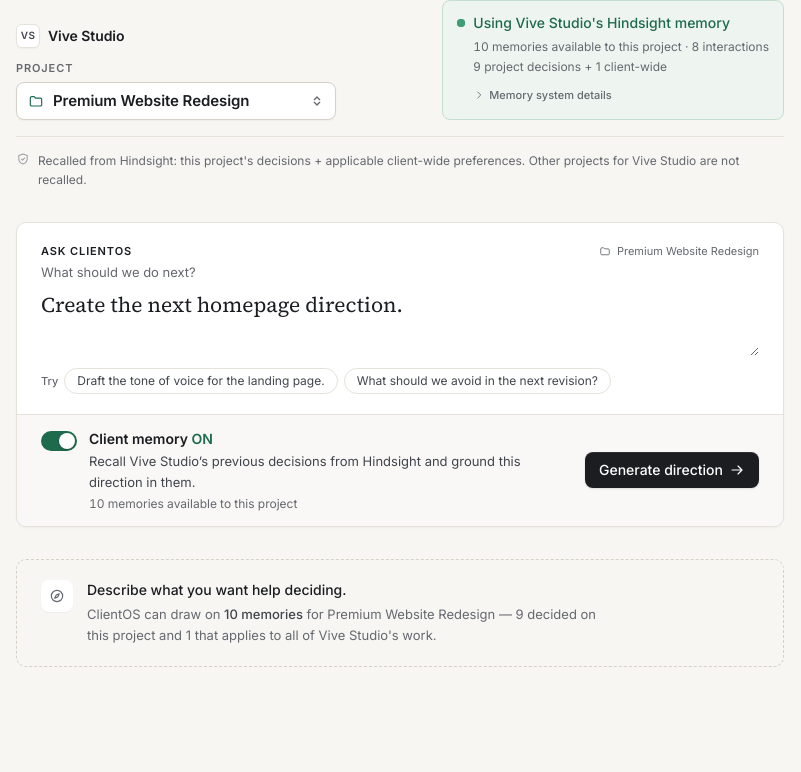
AIWorkspace — memory off vs on comparison › memory ON after memory OFF shows both REAL generated summaries
This screenshot has width=801, height=772.
Click the checkbox labelled "Client memory".
click(305, 470)  # box x1=41 y1=429 x2=569 y2=512
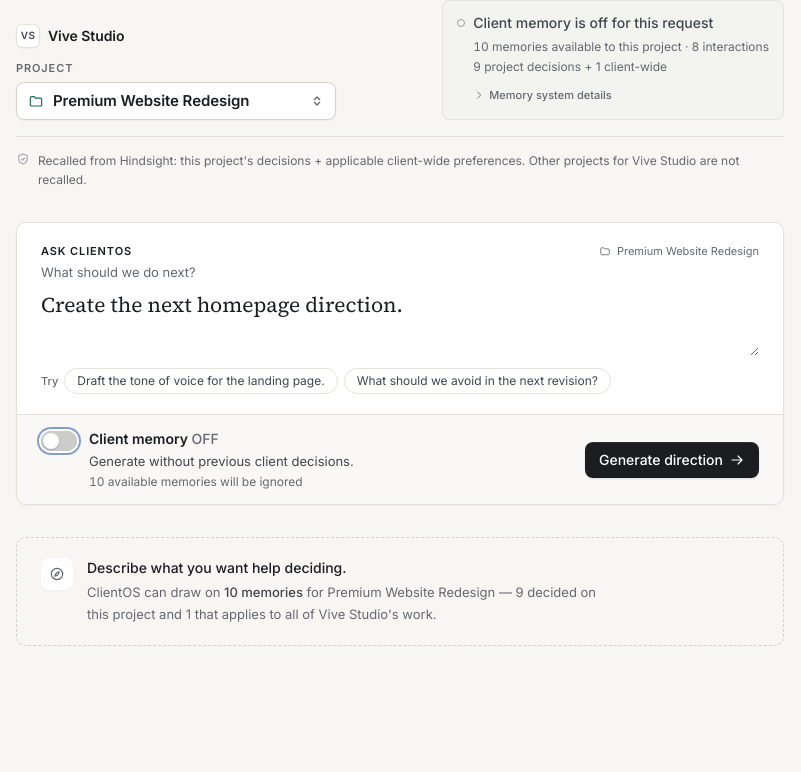
Click the button "Generate direction".
click(672, 460)  # box x1=585 y1=442 x2=759 y2=478
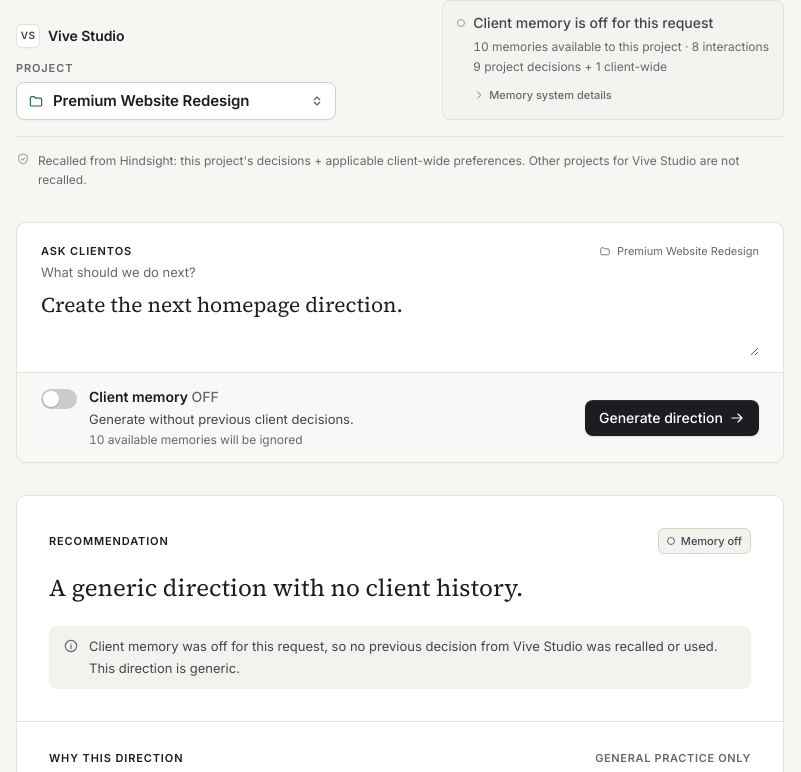
Now the heading "Recommendation" is shown, box x1=49 y1=533 x2=169 y2=549
Now the text "A generic direction with no client history." is shown, box x1=49 y1=571 x2=523 y2=604
Click the checkbox labelled "Client memory".
click(197, 418)  # box x1=41 y1=387 x2=354 y2=448
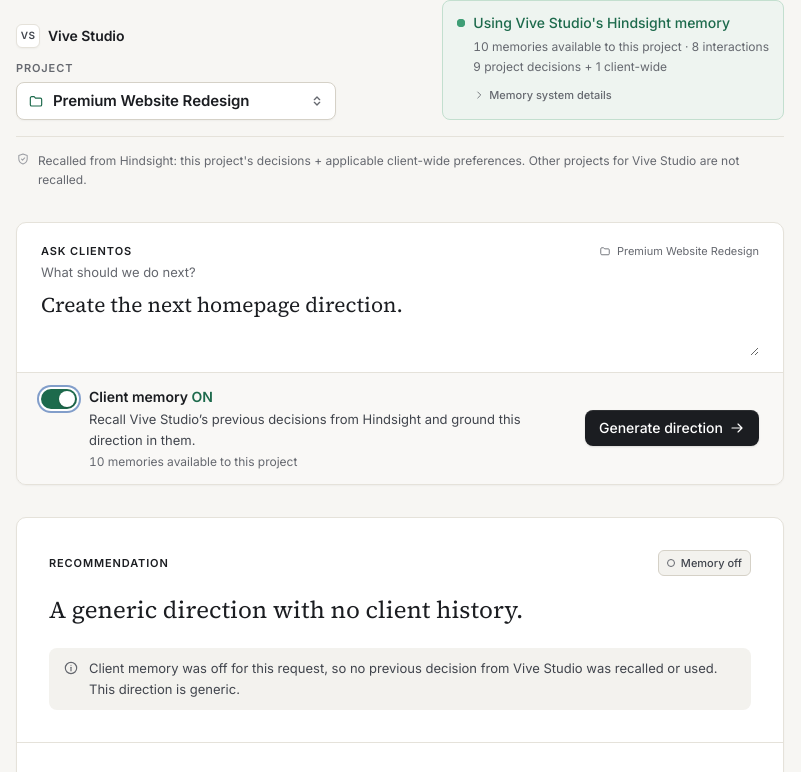
Click the button "Generate direction".
click(672, 428)  # box x1=585 y1=410 x2=759 y2=446
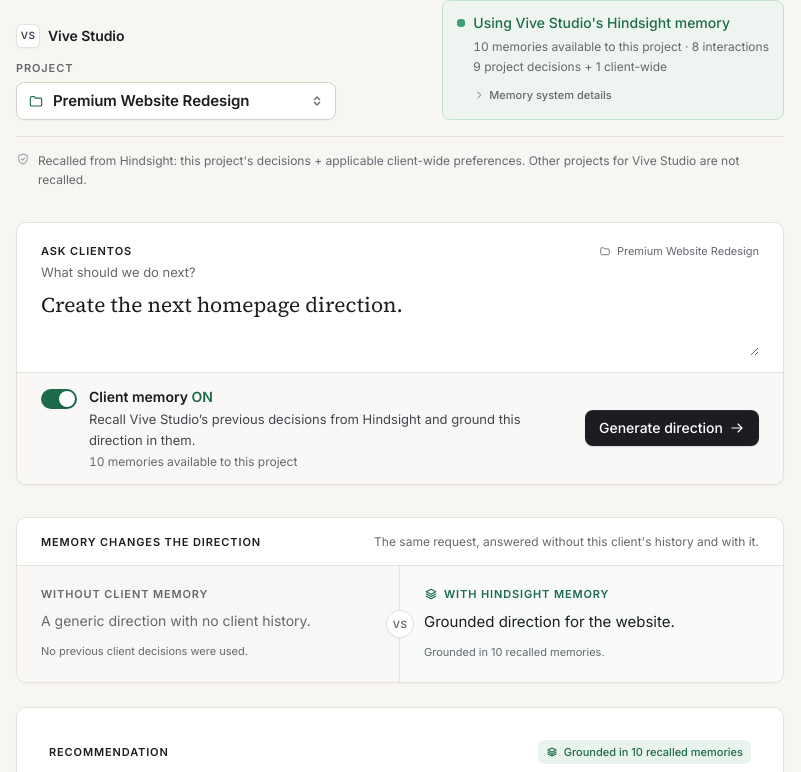
Now the heading "Recommendation" is shown, box x1=49 y1=744 x2=169 y2=760
Now the heading "Memory changes the direction" is shown, box x1=41 y1=534 x2=261 y2=550
Now the element "Memory changes the direction" shows "A generic direction with no client history.", box x1=41 y1=612 x2=311 y2=629
